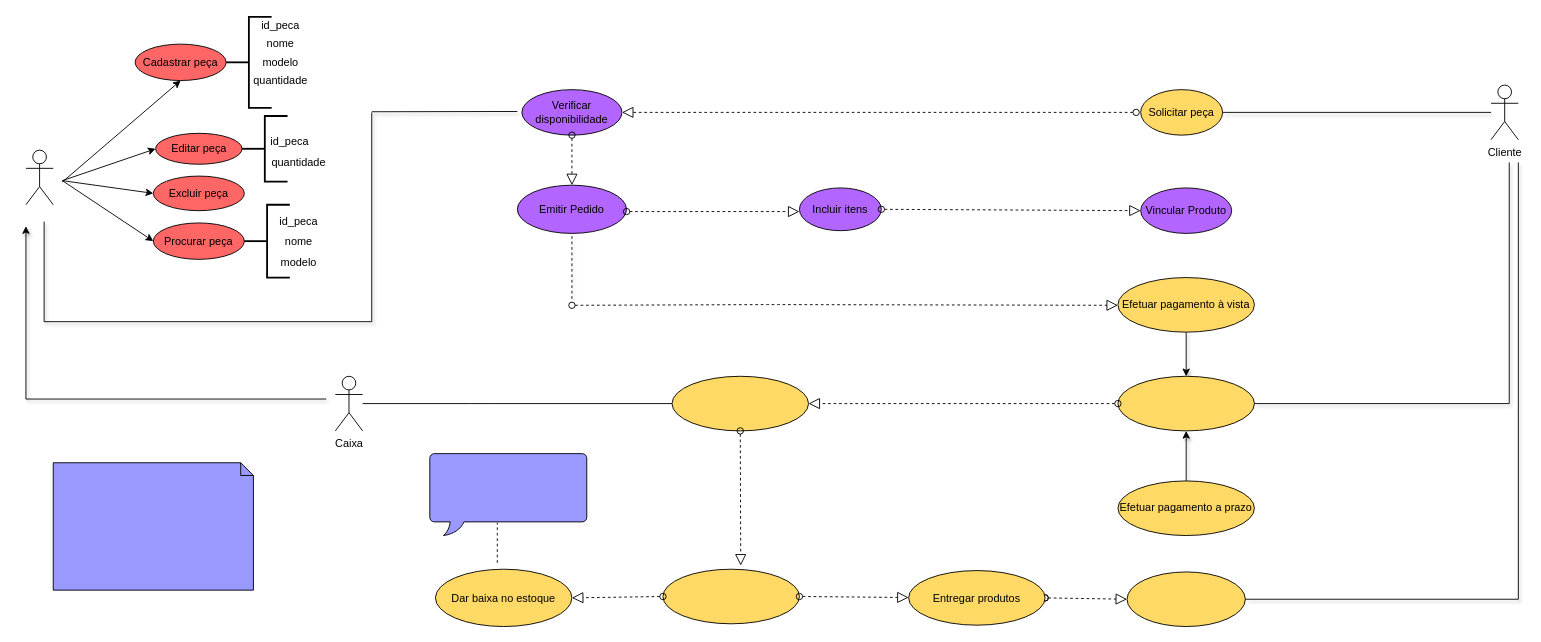
Image size: 1541x642. Some labels were removed from this diagram. The shapes that lost their labels are listed below. From the top down, each one's centre as x and y in pixels, then its label:
At (x=39, y=177): "Vendedor".
At (x=740, y=403): "Efetuar Recebimento".
At (x=1185, y=403): "Efetuar pagamento".
At (x=508, y=494): "Atualiza a quantidade de produtos no cadastro de produtos".
At (x=152, y=526): "Círculos amarelos referem-se ao CLIENTE; Círculos roxos referem-se ao VENDEDOR;".
At (x=730, y=596): "Emitir cupom fiscal".
At (x=1185, y=599): "Receber produtos".
